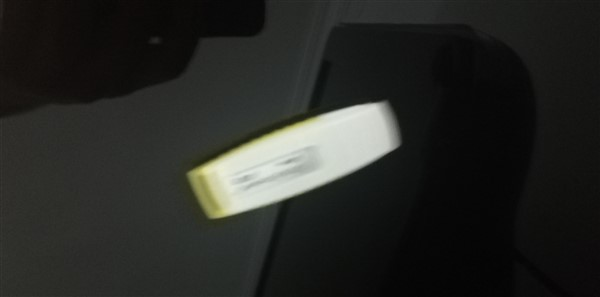flash disk: (186, 90, 405, 223)
